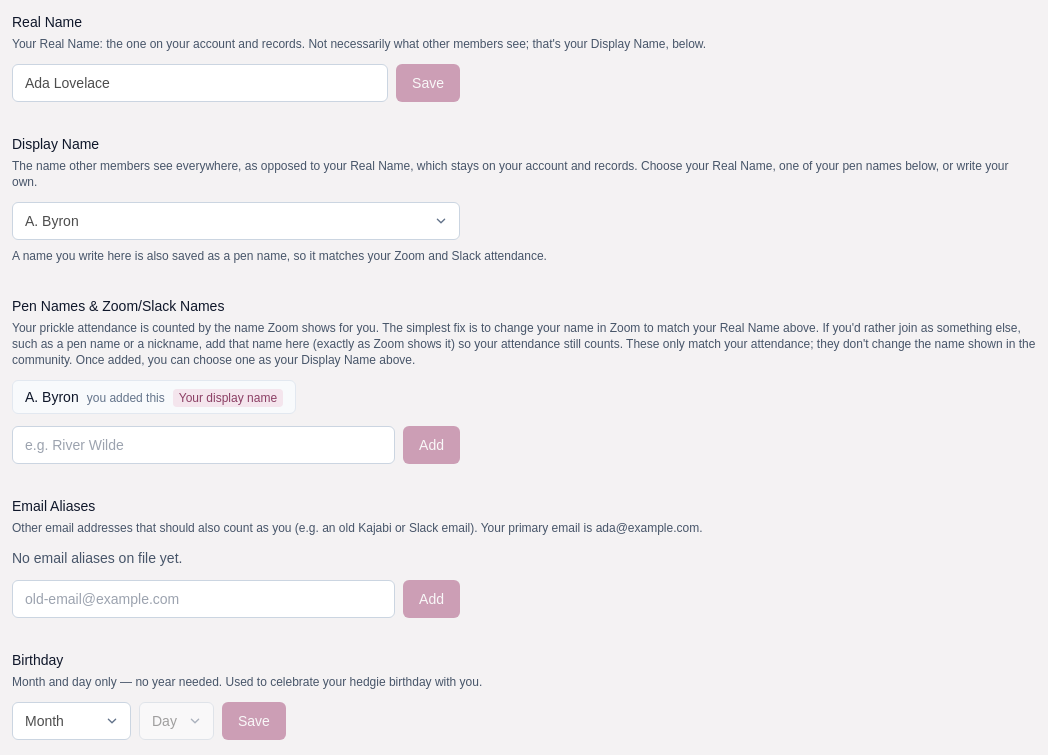
Test: IdentityPanel › shows the error when the display name cannot be saved
This screenshot has width=1048, height=755.
Select "Ada Lovelace (Real Name)" in the 1st dropdown showing "A. Byron". click: (236, 221)
box: [12, 202, 460, 240]
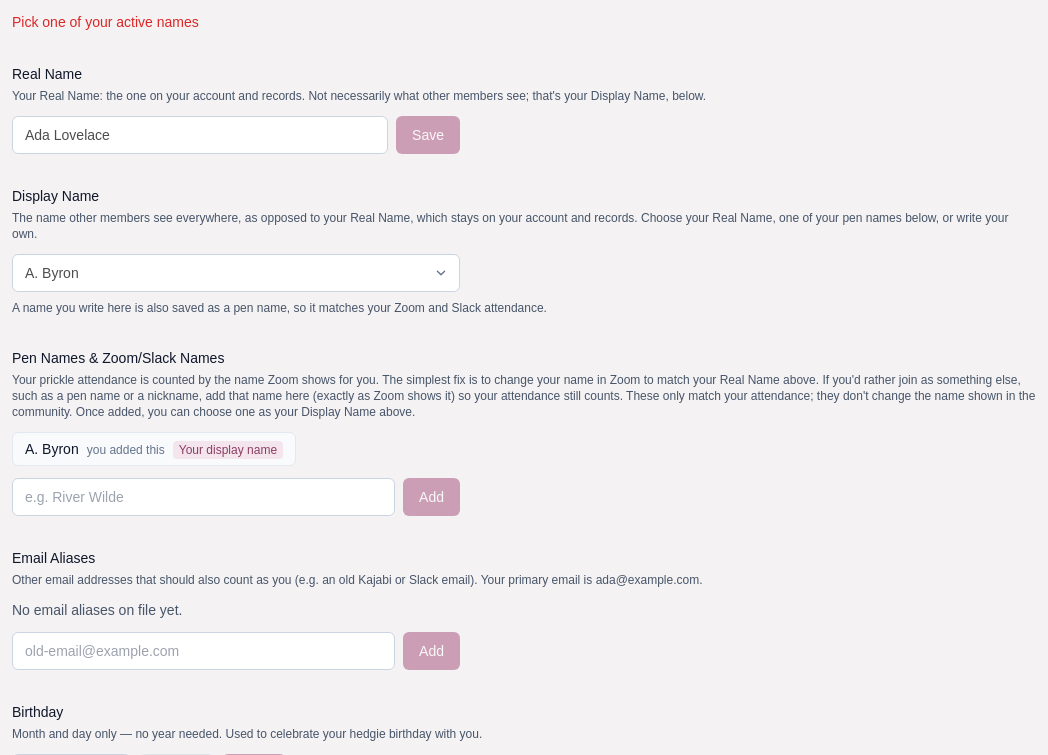
Expected: the message reads "Pick one of your active names", [12, 14, 199, 30]
